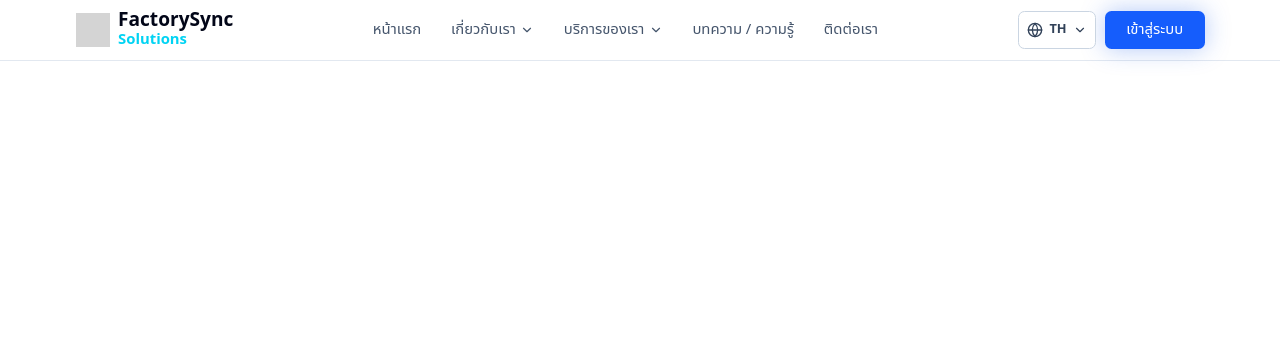
it: SiteNavBar — settings menu (theme & locale) › opens the settings menu exposing locale and theme radiogroups
Click the button with aria-label "การตั้งค่า".
click(1057, 30)  # box x1=1018 y1=11 x2=1096 y2=49
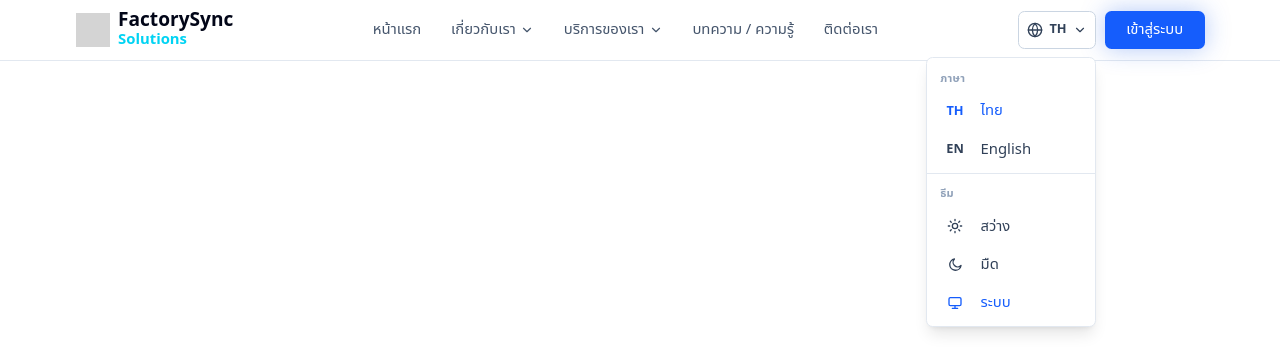
Check: the element named "ภาษา" is shown, box x1=927 y1=92 x2=1095 y2=168
Check: the element named "ธีม" is shown, box x1=927 y1=207 x2=1095 y2=322
